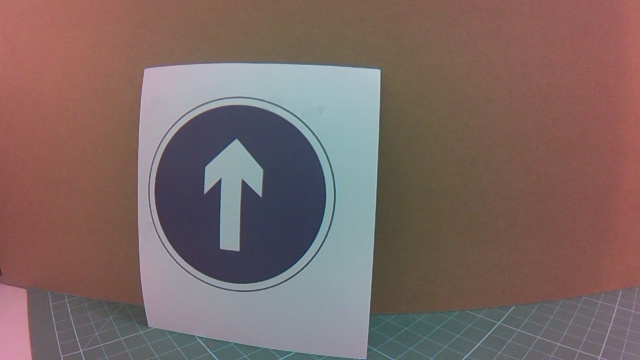forward: (166, 93, 349, 299)
